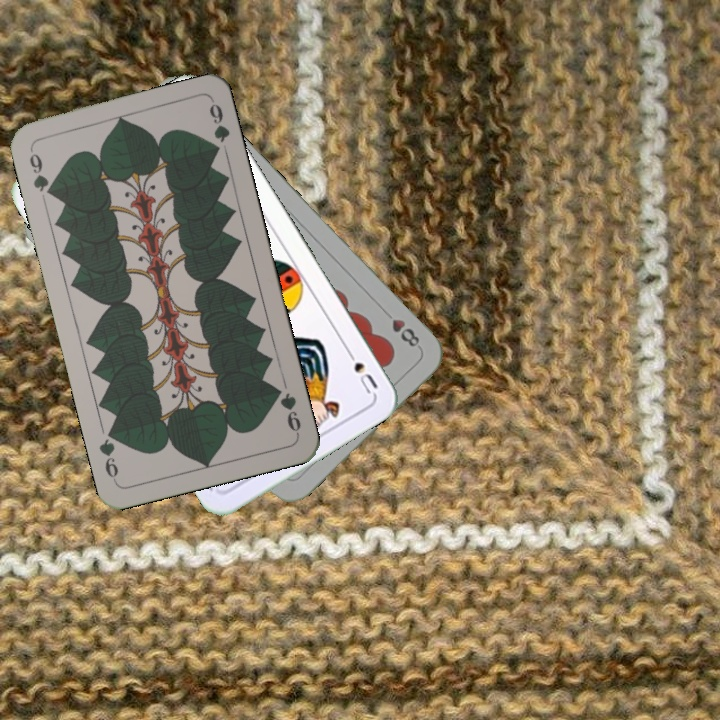G9: (269, 382, 304, 438), (25, 144, 57, 200)
H8: (378, 305, 423, 350)
SU: (341, 343, 381, 397)
